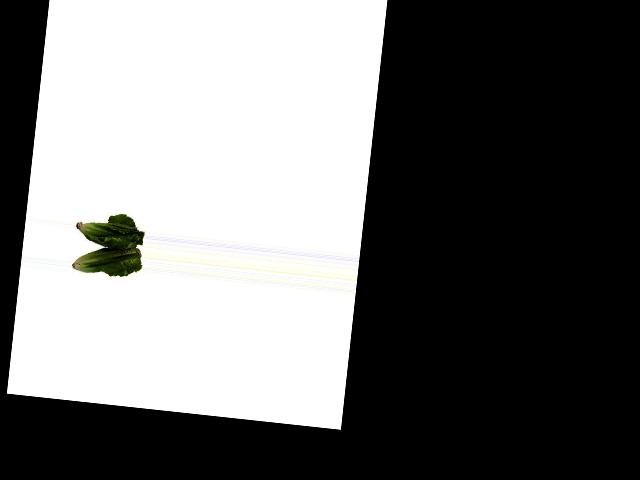lettuce: (70, 216, 146, 282)
